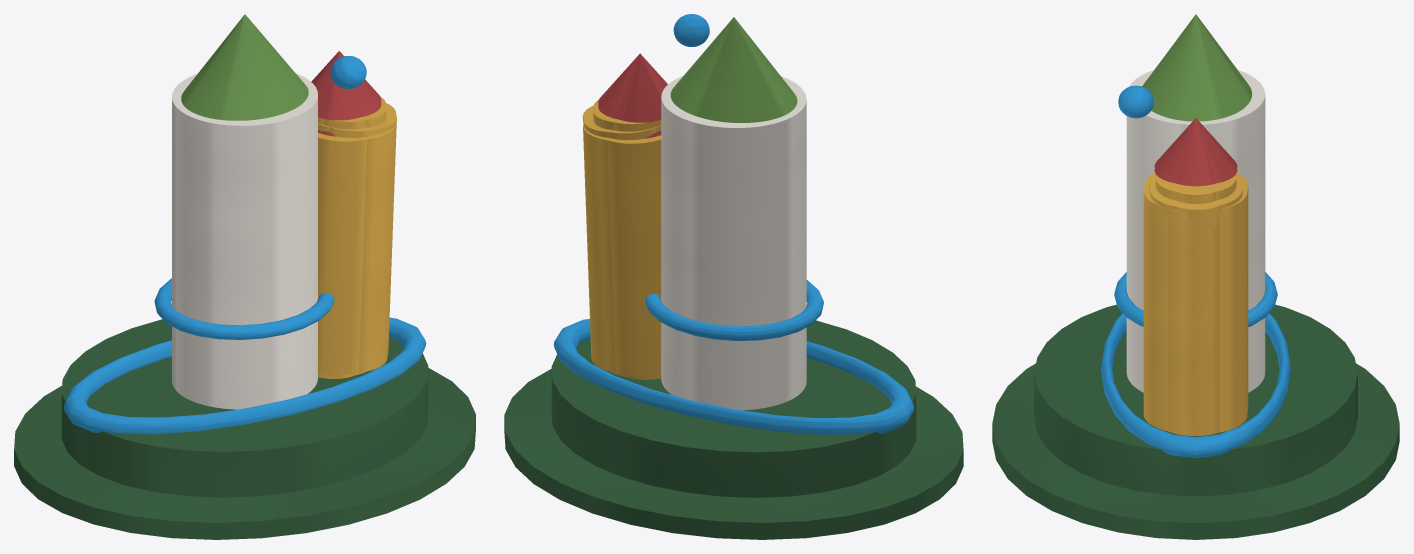
The model's file is 0871_生活中的数学图鉴_玄武岩柱.glb.
3 views of the same model, side by side, from view 1: azimuth 30°, elevation 25°; view 2: azimuth 150°, elevation 25°; view 3: azimuth 270°, elevation 25° (orthographic).
Parts seen in each view (by area): view 1: card_0871; view 2: card_0871; view 3: card_0871.
Boxes of the visible parts, x1,y1,x2,y2 form: card_0871: (14, 14, 475, 539); card_0871: (504, 14, 963, 539); card_0871: (992, 14, 1399, 539).
Size of the model in its own units: 0.996 by 1 by 0.8654.
